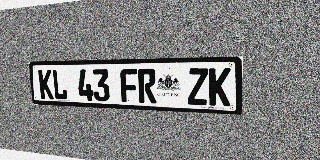3: (92, 69, 110, 102)
4: (77, 69, 94, 101)
F: (120, 69, 138, 103)
K: (209, 68, 231, 106), (38, 70, 54, 99)
L: (52, 69, 68, 100)
R: (138, 69, 157, 103)
Z: (188, 68, 208, 105)
